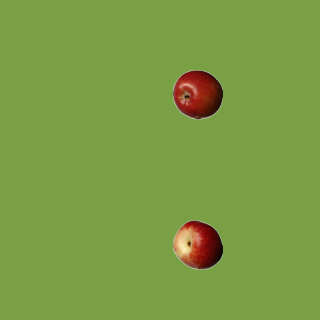Apple Braeburn: (172, 69, 222, 119)
Nectarine: (172, 219, 222, 269)
